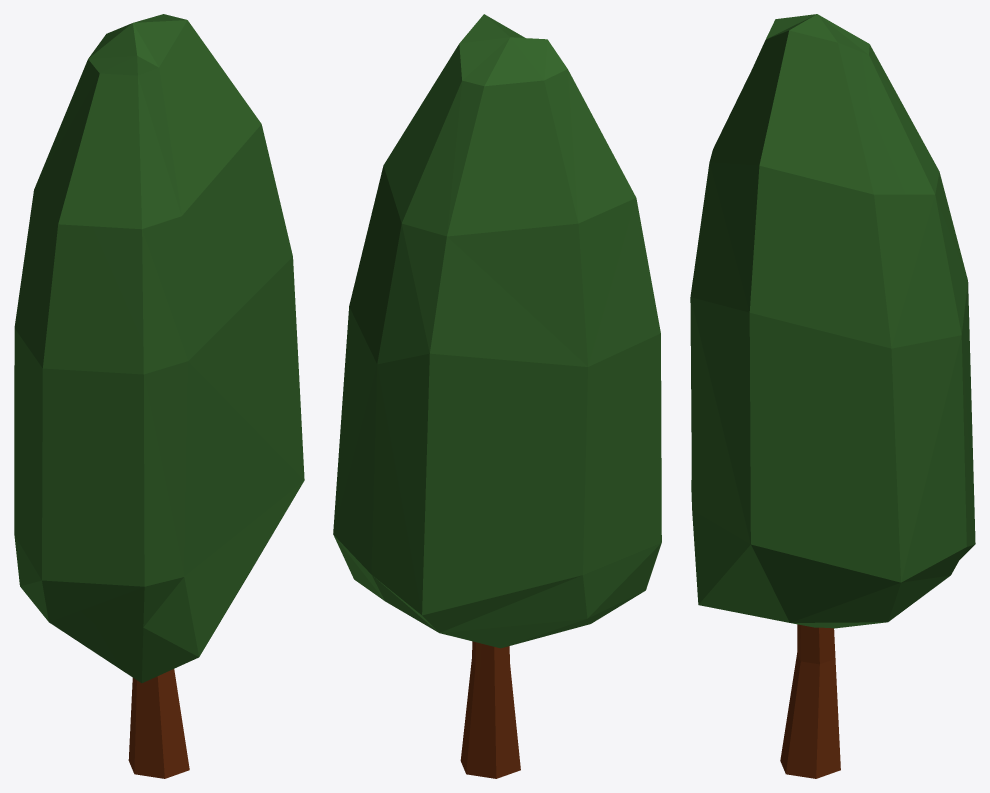
File: TemperateTree_14.glb
The picture shows the model from 3 angles, left to right: view 1: azimuth 30°, elevation 25°; view 2: azimuth 150°, elevation 25°; view 3: azimuth 270°, elevation 25°; orthographic projection.
Visible parts, largest first — view 1: Tree_temp_climate_014; view 2: Tree_temp_climate_014; view 3: Tree_temp_climate_014.
Boxes of the visible parts, bbox=[...] form: Tree_temp_climate_014: bbox=[14, 14, 304, 778]; Tree_temp_climate_014: bbox=[333, 14, 661, 778]; Tree_temp_climate_014: bbox=[690, 14, 975, 778].
Bounding box in the file's own units: 1.91 × 5.25 × 1.82.
Materials: 1 (1 with a texture image).
